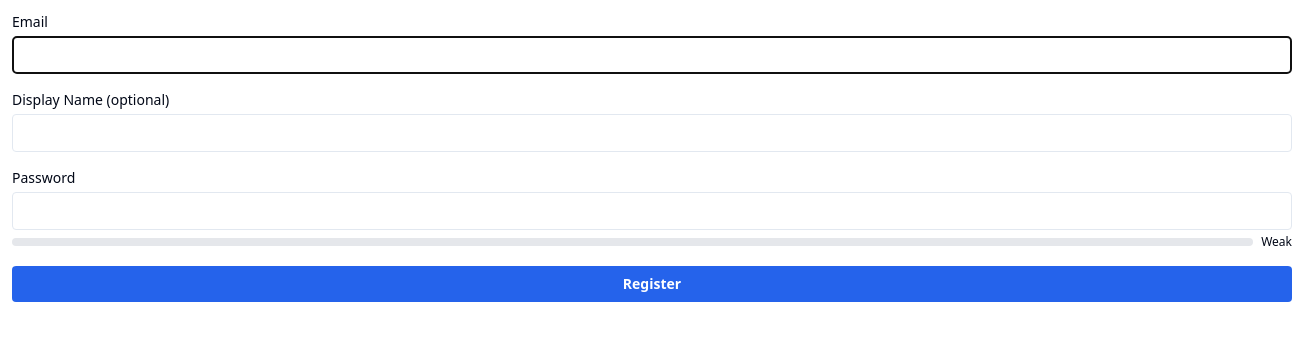
Test: RegisterForm › shows weak password error
Type "user@example.com" into the field with test id "reg-email" at (652, 55), box [12,36,1292,74]
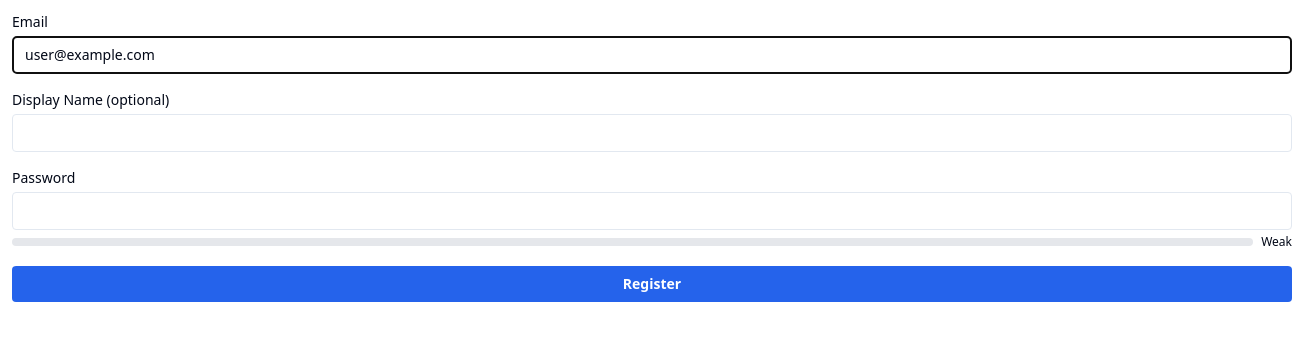
Type "abc" into the password field with test id "reg-password" at (652, 211), box [12,192,1292,230]
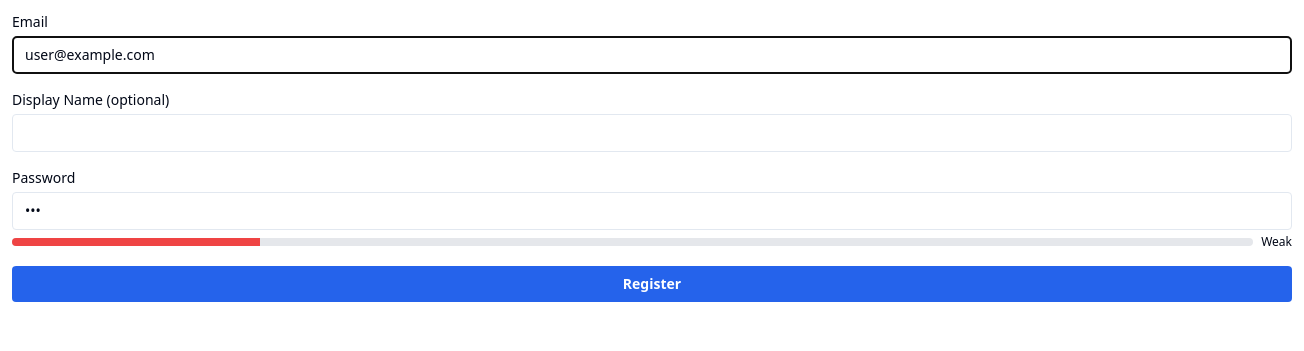
Click the button with test id "reg-submit" at (652, 284), box [12,266,1292,302]
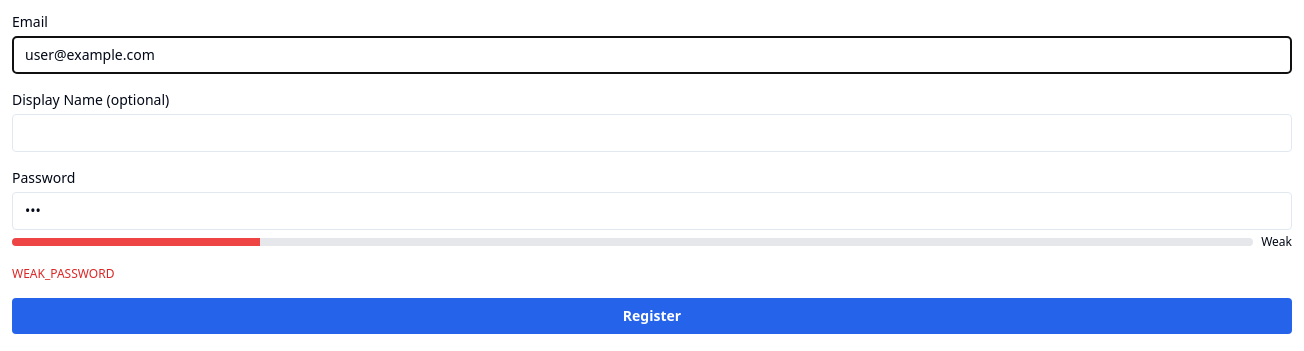
Check: the message with test id "reg-error" reads "WEAK_PASSWORD", box [12,265,114,282]
